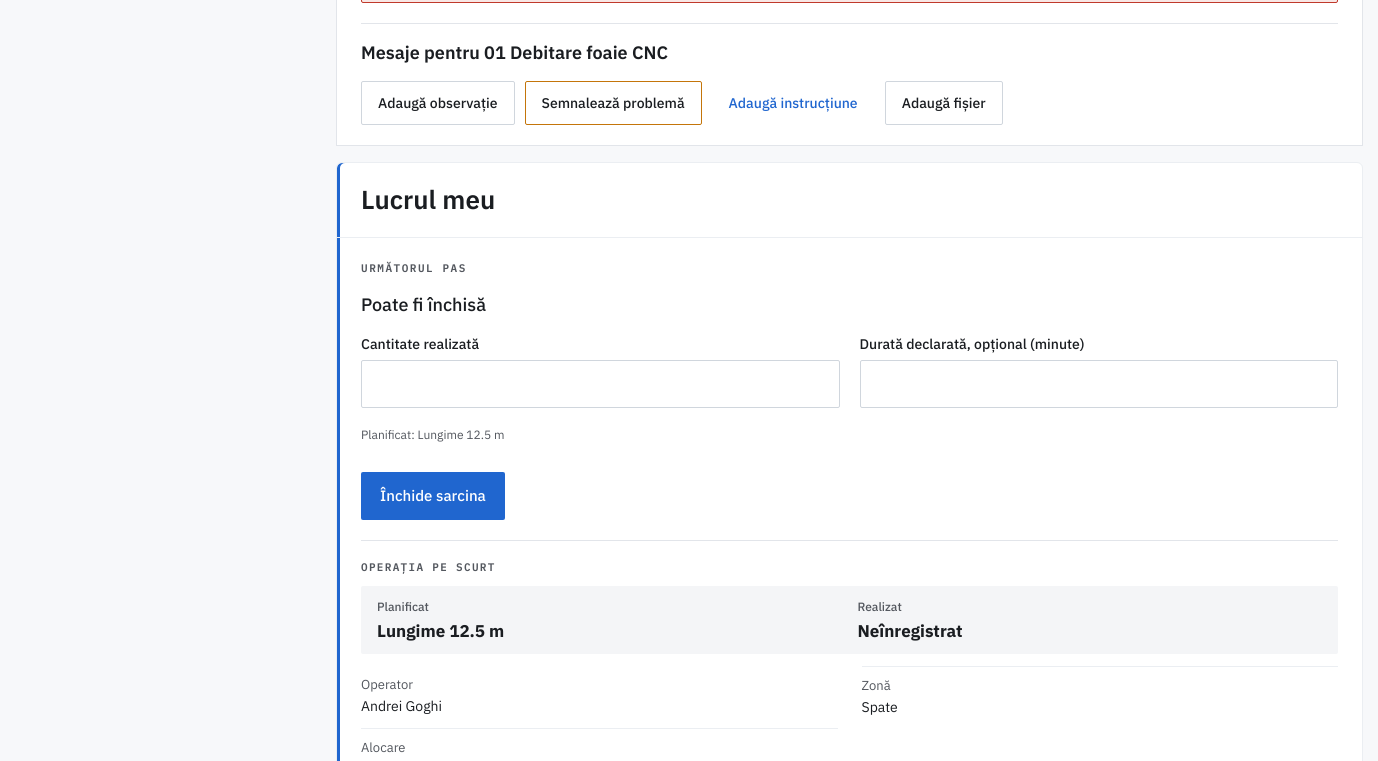
Test: OperationWorkspace › captures operator actual quantity and displays server variance after reload
The width and height of the screenshot is (1378, 761).
(page scrolled)
Check: the text "Lungime 12.5 m" is shown, box [377,620,504,642]
Type "11,8" into the field labelled "Cantitate realizată" at [600, 384], box [361,360,840,408]
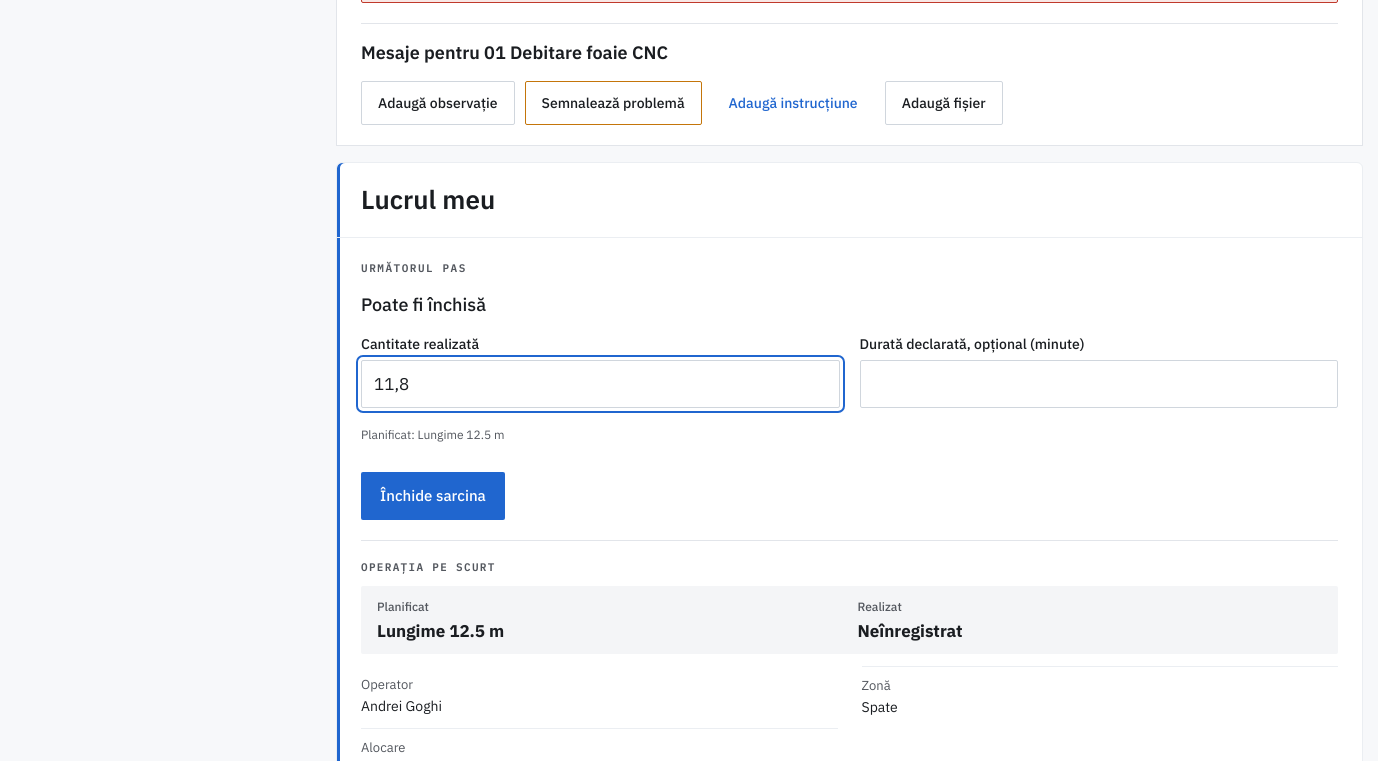
Click the button "Închide sarcina" at [433, 496], box [361,472,505,520]
(page scrolled)
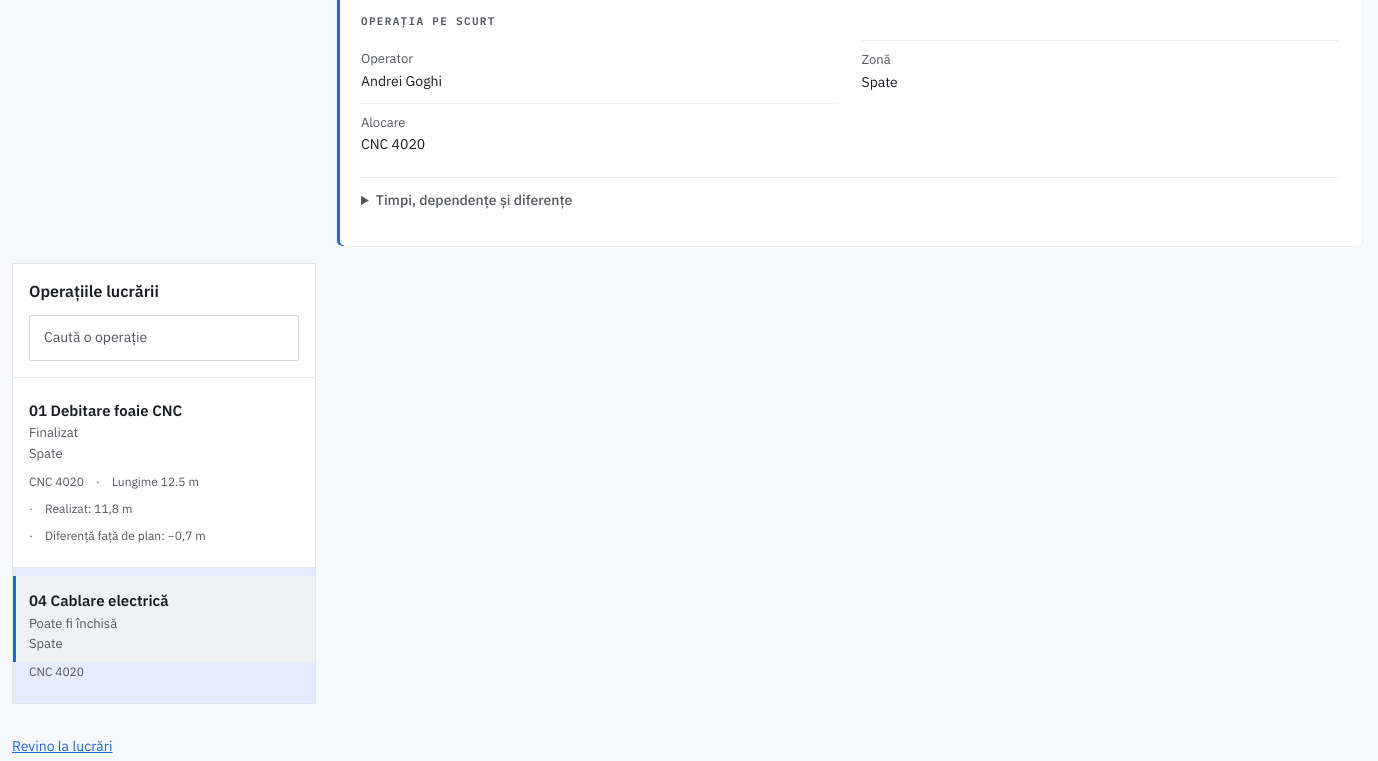
Check: the text "Diferență față de plan: −0,7 m" is shown, box [29,526,206,545]
Check: the label labelled "Cantitate realizată" is gone
